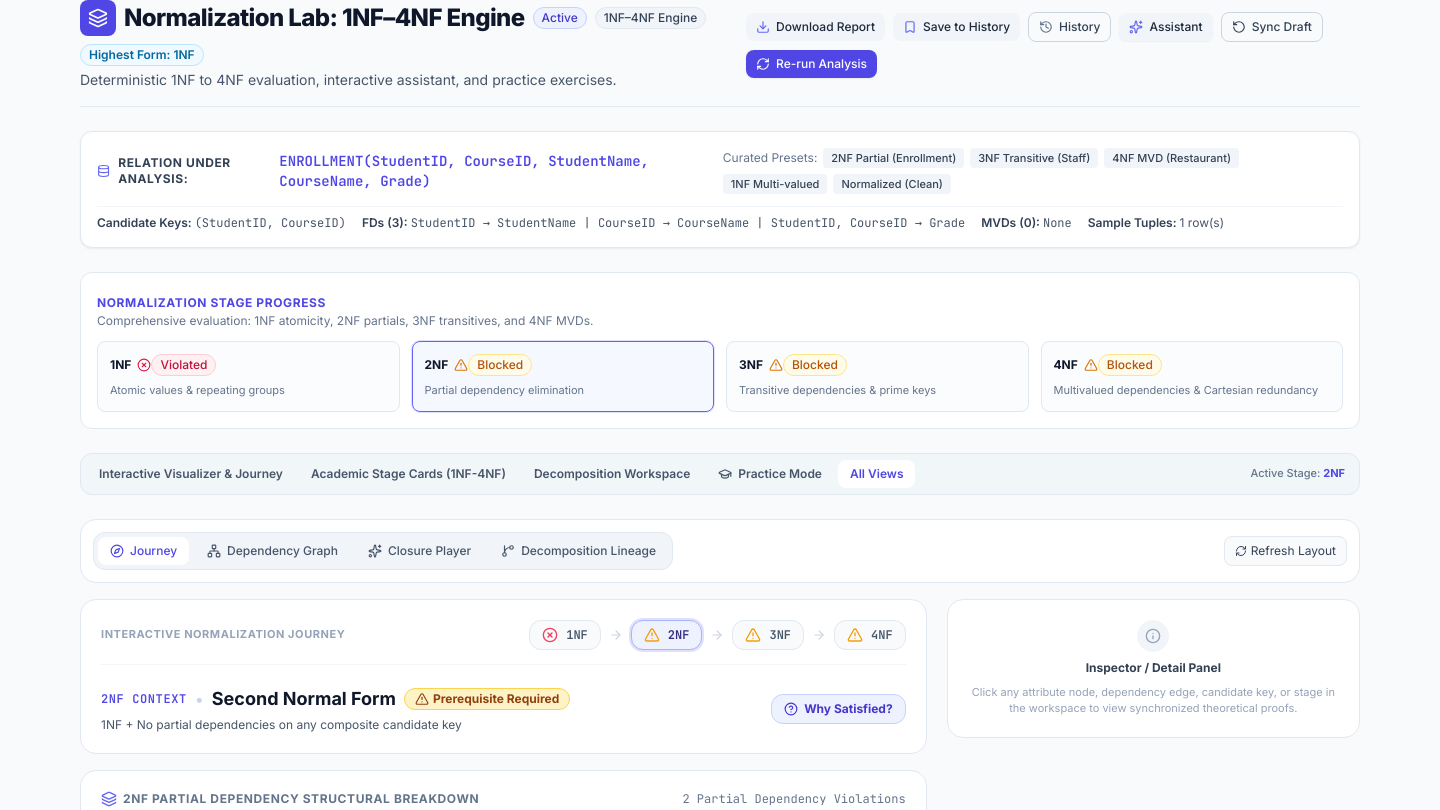
Test: NormalizationLab Component (Phase 6) › renders Fourth Normal Form (4NF) card when 4NF stage is clicked
The width and height of the screenshot is (1440, 810).
What coordinates should you click on to do the following:
click the button with test id "stage-step-4nf"
I would click on:
 (1130, 365)
Its box is [1040,341,1343,412].
(page scrolled)
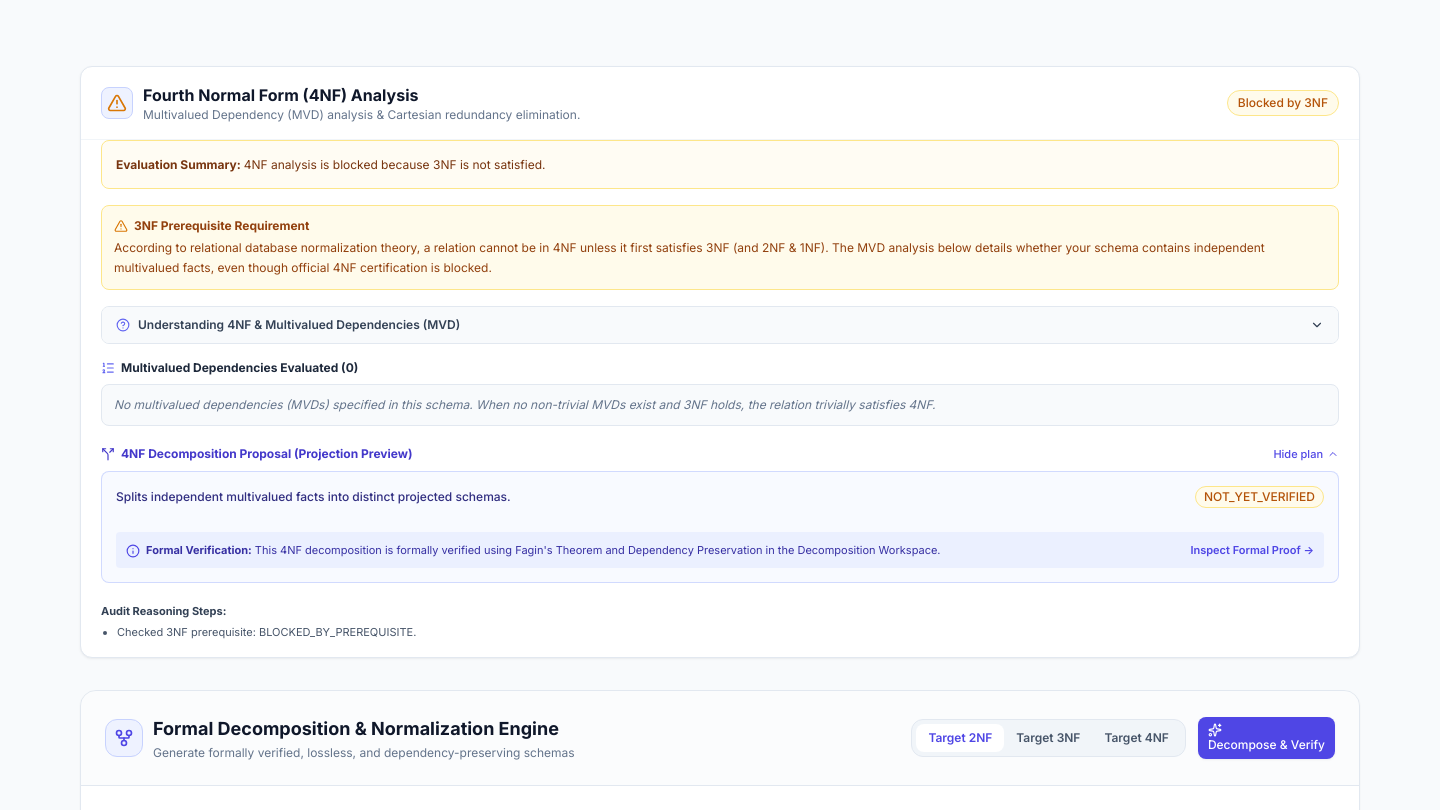
Check: the heading "Fourth Normal Form (4NF) Analysis" is shown, box [143,84,418,104]
Check: the text "Blocked by 3NF" is shown, box [1238,95,1328,111]
Check: the text "No multivalued dependencies (MVDs) specified in this schema" is shown, box [114,397,936,412]
